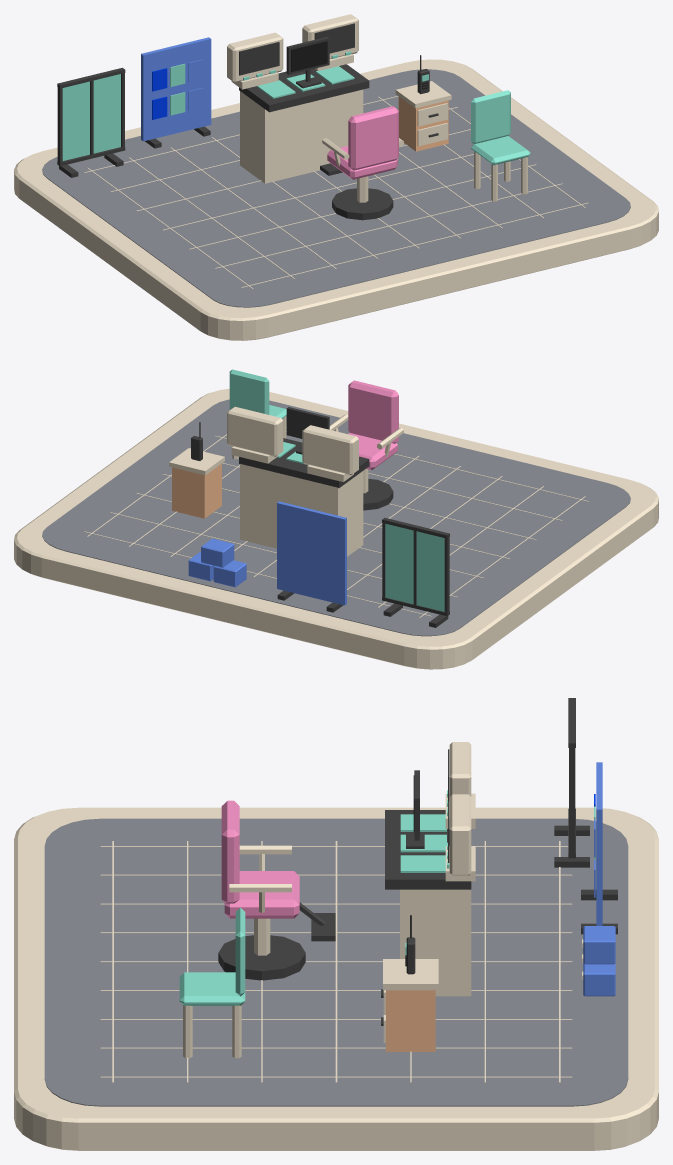
File: room.fbx
The picture shows the model from 3 angles, top to bottom: view 1: azimuth 30°, elevation 25°; view 2: azimuth 150°, elevation 25°; view 3: azimuth 270°, elevation 25°; orthographic projection. The views are drawn at different scales.
Visible parts, largest first — view 1: COM-02 Floor Surface, COM-01 Rounded Base Direct, Console, Panel.001, Back, Panel, Forward blue glazing, Forward blue glazing.001, Backrest, Frame, Base, Housing (+10 smaller); view 2: COM-02 Floor Surface, COM-01 Rounded Base Direct, Panel.001, Console, Back, Housing, Housing.001, Body, Forward blue glazing.001, Forward blue glazing, Backrest, Panel (+8 smaller); view 3: COM-02 Floor Surface, COM-01 Rounded Base Direct, Console, Body, Panel, Base, Seat, Seat.001, Housing.001, Back, Top, Stacked case.002 (+12 smaller).
Boxes of the visible parts, bbox=[...] form: COM-02 Floor Surface: bbox=[42, 69, 630, 307]; COM-01 Rounded Base Direct: bbox=[14, 59, 658, 340]; Console: bbox=[240, 89, 363, 183]; Panel.001: bbox=[141, 37, 211, 141]; Back: bbox=[348, 106, 398, 170]; Panel: bbox=[239, 64, 369, 112]; Forward blue glazing: bbox=[62, 81, 89, 160]; Forward blue glazing.001: bbox=[93, 74, 120, 153]; Backrest: bbox=[471, 90, 510, 144]; Frame: bbox=[286, 37, 329, 88]; Base: bbox=[332, 188, 393, 220]; Housing: bbox=[227, 32, 283, 82]; COM-02 Floor Surface: bbox=[42, 399, 630, 636]; COM-01 Rounded Base Direct: bbox=[14, 388, 658, 669]; Panel.001: bbox=[277, 501, 346, 605]; Console: bbox=[240, 464, 363, 556]; Back: bbox=[348, 380, 398, 443]; Housing: bbox=[302, 425, 358, 475]; Housing.001: bbox=[227, 406, 283, 456]; Body: bbox=[172, 463, 221, 518]; Forward blue glazing.001: bbox=[385, 523, 413, 604]; Forward blue glazing: bbox=[416, 531, 444, 611]; Backrest: bbox=[229, 369, 269, 414]; Panel: bbox=[239, 438, 369, 488]; COM-02 Floor Surface: bbox=[44, 818, 628, 1106]; COM-01 Rounded Base Direct: bbox=[14, 807, 658, 1150]; Console: bbox=[400, 889, 471, 996]; Body: bbox=[386, 990, 435, 1051]; Panel: bbox=[385, 810, 471, 889]; Base: bbox=[218, 935, 305, 980]; Seat: bbox=[224, 871, 299, 918]; Seat.001: bbox=[179, 972, 245, 1005]; Housing.001: bbox=[449, 794, 471, 875]; Back: bbox=[221, 800, 239, 904]; Top: bbox=[383, 959, 438, 990]; Stacked case.002: bbox=[583, 926, 615, 964].
Bounding box in the file's own units: 600 × 188 × 520.
